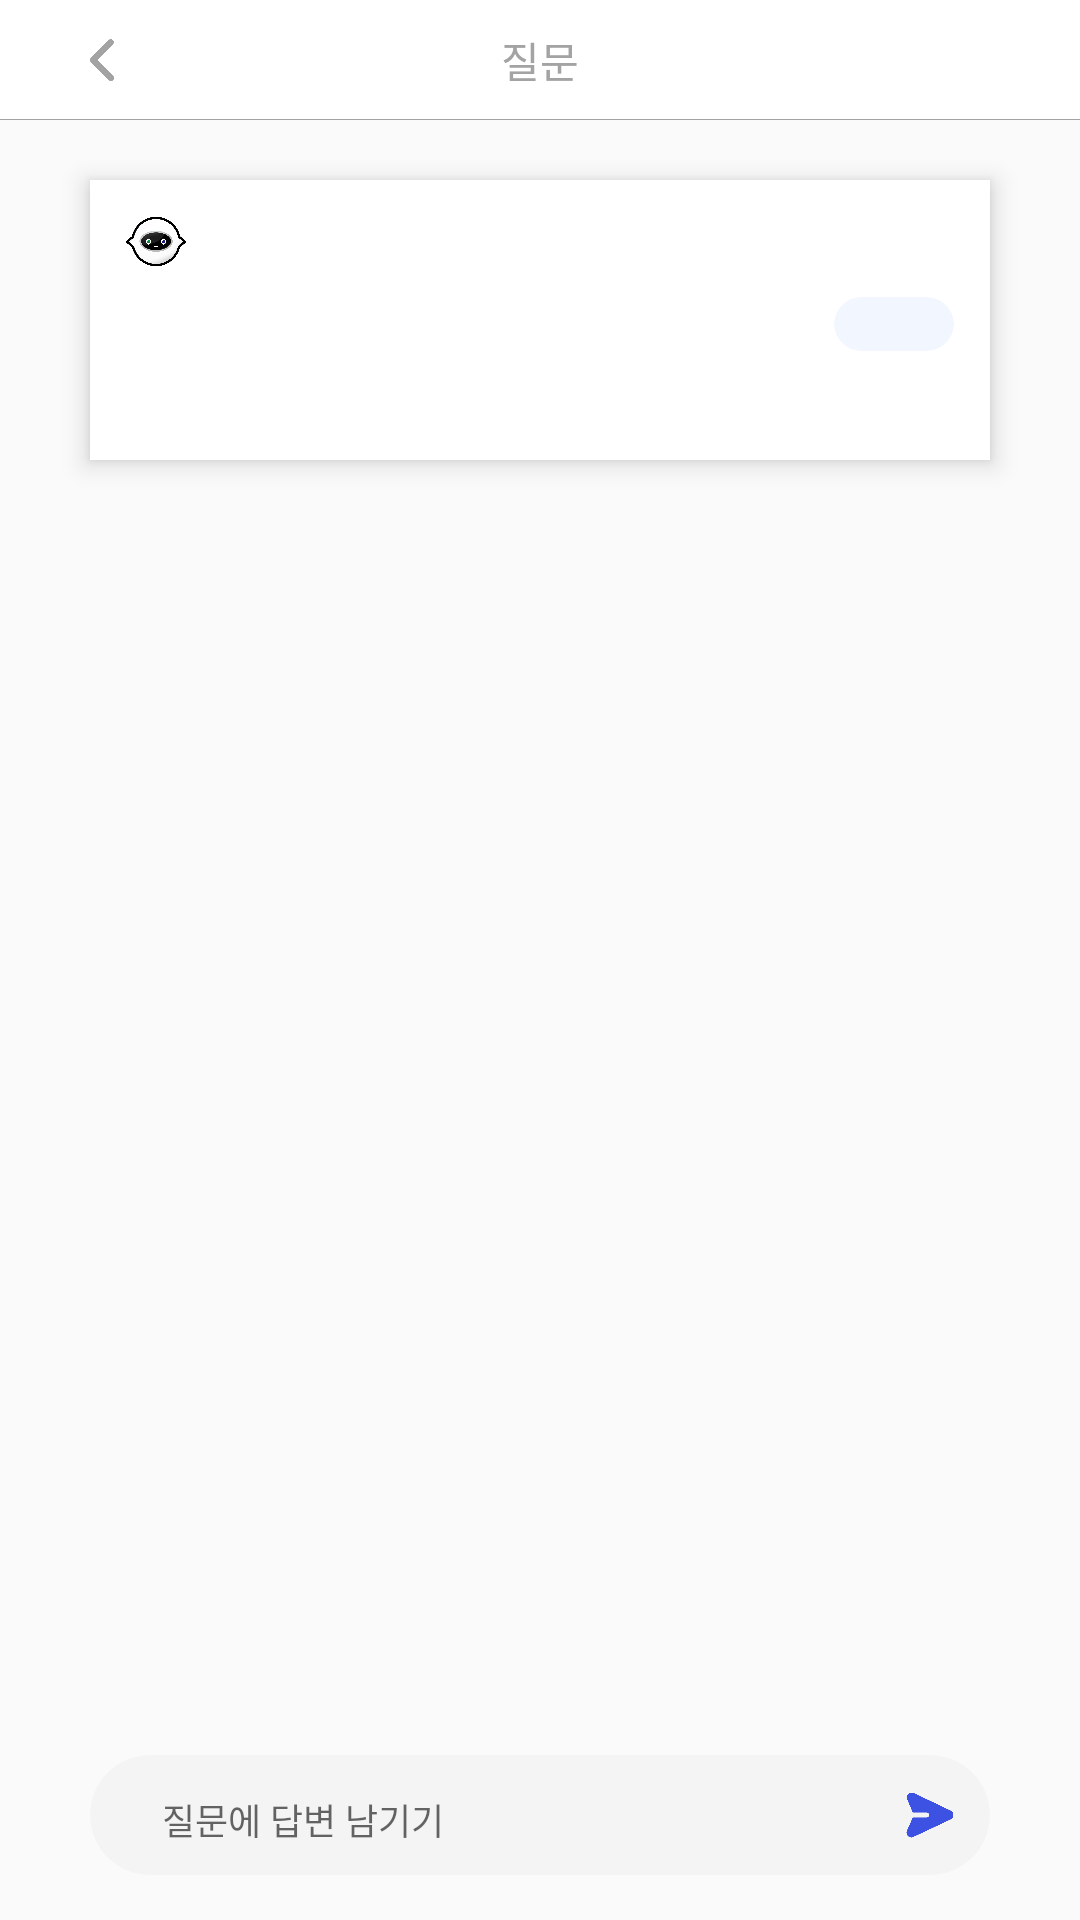

Screen size 1080 x 1920. Icon name, then its box in pixels as (x1, y1, x2, y2):
back: (90, 39, 114, 81)
send: (906, 1793, 953, 1838)
